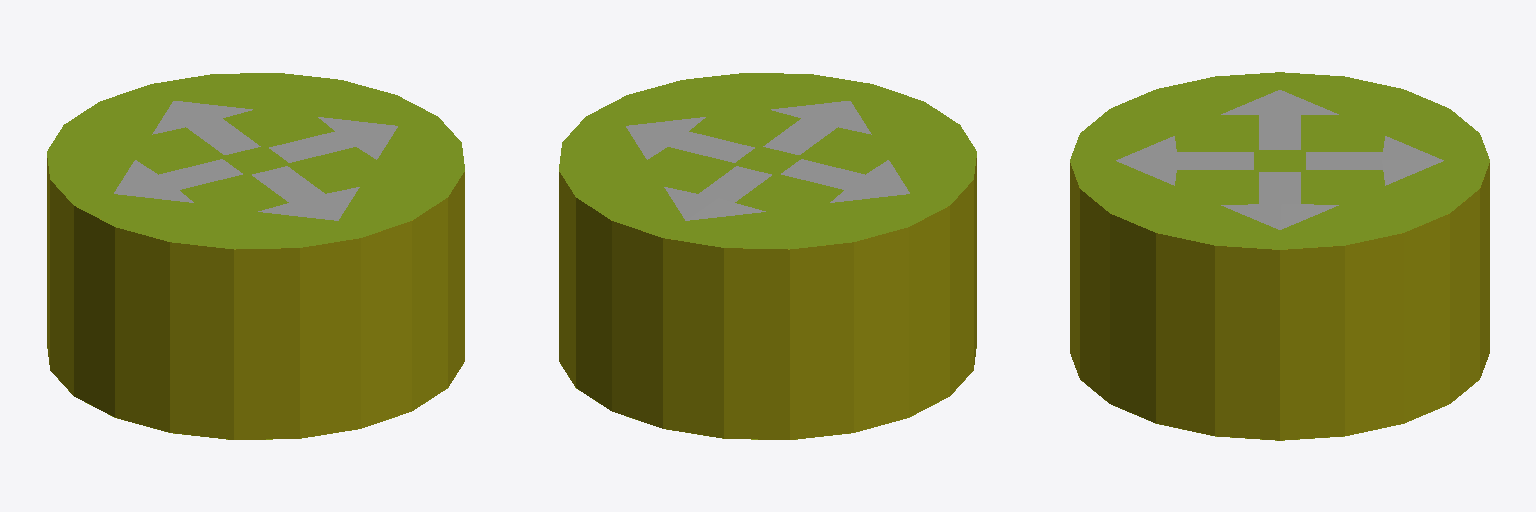
The model's file is node_yellow.obj.
The picture shows the model from 3 angles: view 1: azimuth 30°, elevation 25°; view 2: azimuth 150°, elevation 25°; view 3: azimuth 270°, elevation 25°; orthographic projection.
Visible parts, largest first — view 1: 柱体_柱体.001, 圆环.001_圆环.002, 平面.015_平面.016, 平面.009_平面.010, 平面.013_平面.014, 平面.011_平面.012, 平面.010_平面.011, 平面.012_平面.013, 平面.014_平面.015, 平面.008_平面.009; view 2: 柱体_柱体.001, 圆环.001_圆环.002, 平面.011_平面.012, 平面.009_平面.010, 平面.013_平面.014, 平面.015_平面.016, 平面.012_平面.013, 平面.014_平面.015, 平面.010_平面.011, 平面.008_平面.009; view 3: 柱体_柱体.001, 圆环.001_圆环.002, 平面.013_平面.014, 平面.015_平面.016, 平面.011_平面.012, 平面.009_平面.010, 平面.008_平面.009, 平面.010_平面.011, 平面.014_平面.015, 平面.012_平面.013.
Boxes of the visible parts, x1,y1,x2,y2 form: 柱体_柱体.001: [47, 158, 464, 439]; 圆环.001_圆环.002: [47, 73, 464, 249]; 平面.015_平面.016: [258, 187, 359, 220]; 平面.009_平面.010: [114, 160, 193, 202]; 平面.013_平面.014: [318, 117, 397, 159]; 平面.011_平面.012: [152, 101, 252, 134]; 平面.010_平面.011: [186, 118, 260, 154]; 平面.012_平面.013: [269, 132, 355, 162]; 平面.014_平面.015: [252, 166, 324, 202]; 平面.008_平面.009: [159, 159, 242, 189]; 柱体_柱体.001: [559, 158, 976, 439]; 圆环.001_圆环.002: [559, 73, 976, 249]; 平面.011_平面.012: [664, 187, 765, 220]; 平面.009_平面.010: [830, 160, 909, 202]; 平面.013_平面.014: [626, 117, 705, 159]; 平面.015_平面.016: [771, 101, 871, 134]; 平面.012_平面.013: [668, 132, 754, 162]; 平面.014_平面.015: [763, 118, 837, 154]; 平面.010_平面.011: [699, 166, 771, 202]; 平面.008_平面.009: [781, 159, 864, 189]; 柱体_柱体.001: [1070, 163, 1489, 440]; 圆环.001_圆环.002: [1070, 72, 1489, 249]; 平面.013_平面.014: [1221, 204, 1338, 229]; 平面.015_平面.016: [1116, 136, 1177, 185]; 平面.011_平面.012: [1382, 136, 1443, 185]; 平面.009_平面.010: [1221, 90, 1338, 115]; 平面.008_平面.009: [1259, 115, 1300, 149]; 平面.010_平面.011: [1306, 152, 1382, 169]; 平面.014_平面.015: [1177, 152, 1253, 169]; 平面.012_平面.013: [1259, 172, 1300, 203].
Bounding box in the file's own units: 32 × 16.3 × 32.